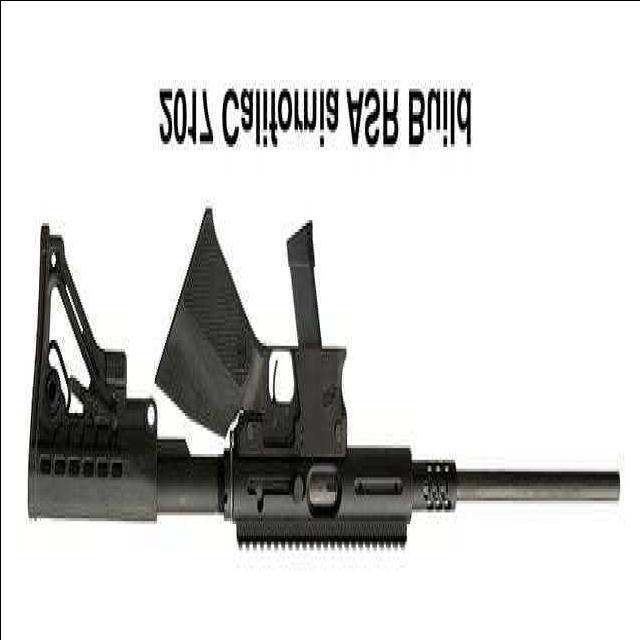heavyweapon: (23, 162, 630, 612)
